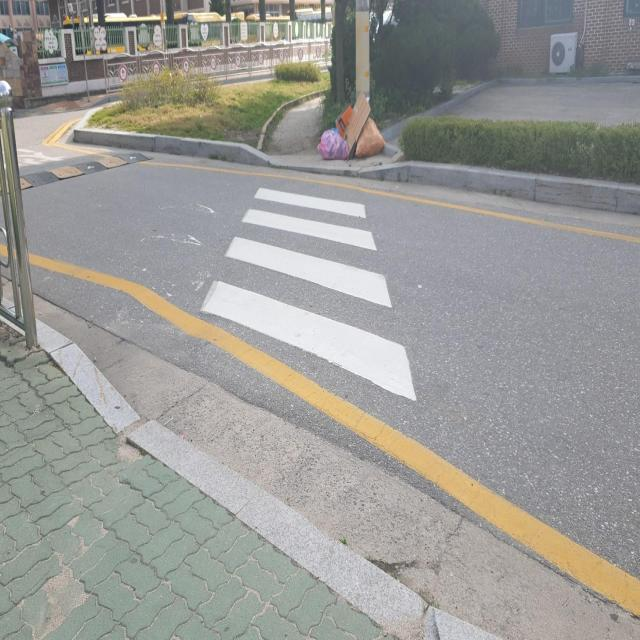횡단보도: (198, 185, 419, 405)
